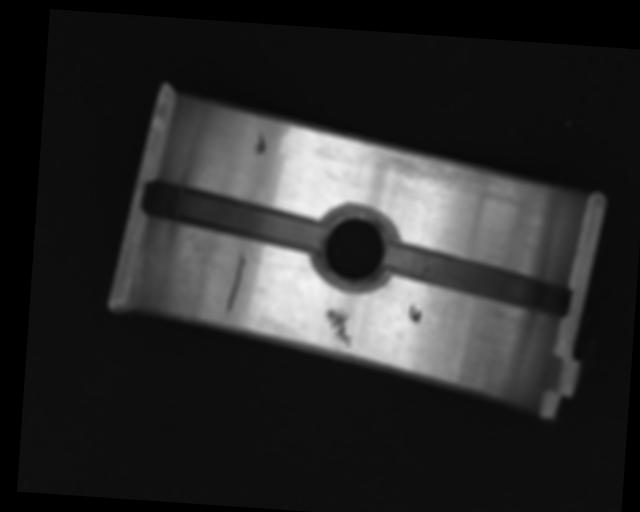blot: (407, 301, 423, 325)
bruise: (324, 308, 355, 347), (253, 132, 266, 155)
gap: (381, 242, 573, 316), (141, 181, 325, 254)
hole: (312, 203, 396, 290)
nick: (224, 251, 246, 321)
scratch: (366, 143, 527, 205)
